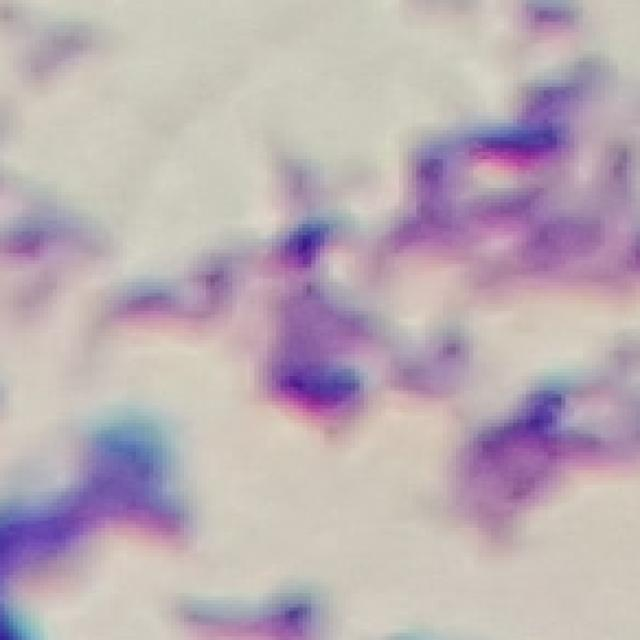non-sperm: (269, 120, 597, 418)
